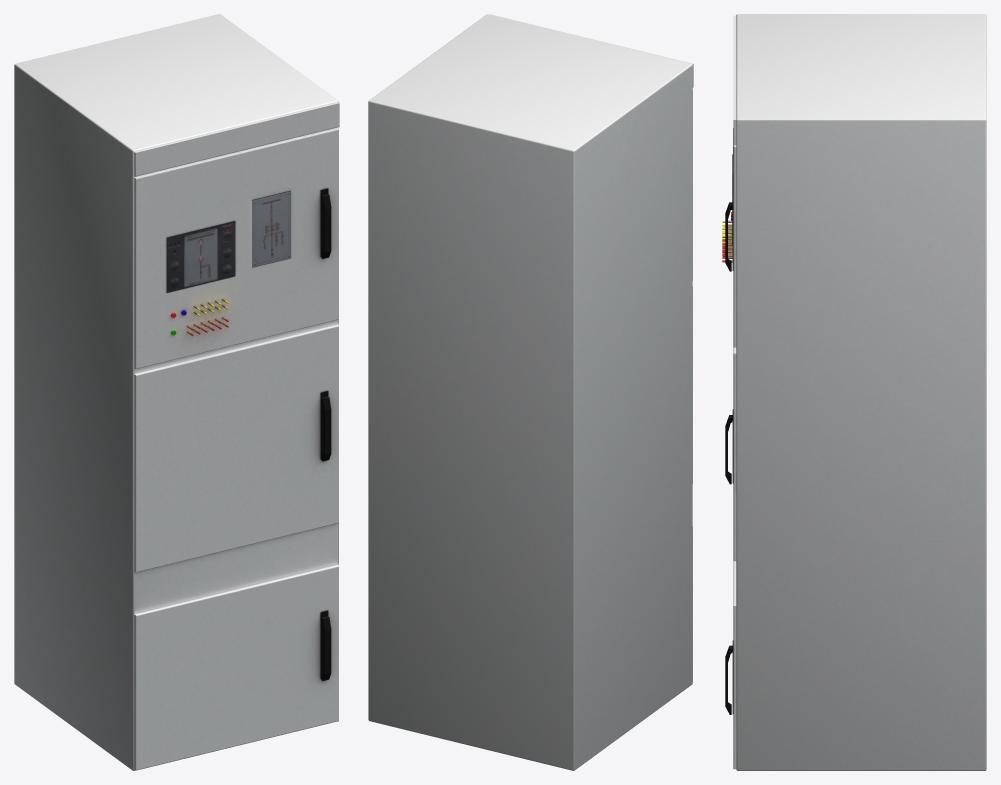
Rendered from diya.obj.
3 views of the same model, side by side, from view 1: azimuth 30°, elevation 25°; view 2: azimuth 150°, elevation 25°; view 3: azimuth 270°, elevation 25° (orthographic). The views are drawn at different scales.
Visible parts, largest first — view 1: ChamferBox08; view 2: ChamferBox08; view 3: ChamferBox08.
Boxes of the visible parts, x1,y1,x2,y2 form: ChamferBox08: (14,14,339,770); ChamferBox08: (368,14,693,770); ChamferBox08: (722,14,986,770).
Bounding box in the file's own units: 80 × 230 × 84.46.
